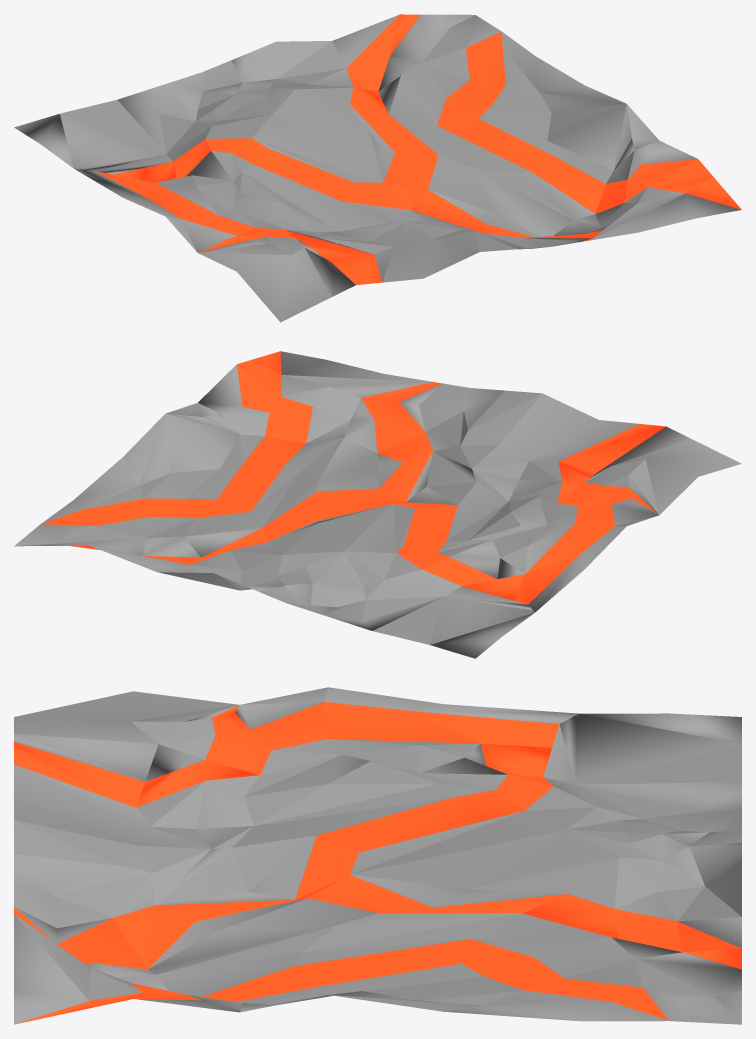
File: Spawn1.fbx
3 views of the same model, one above another, from view 1: azimuth 30°, elevation 25°; view 2: azimuth 150°, elevation 25°; view 3: azimuth 270°, elevation 25° (orthographic). The views are drawn at different scales.
Parts seen in each view (by area): view 1: Spawn1; view 2: Spawn1; view 3: Spawn1.
Boxes of the visible parts, box(x1,y1,x2,y2) form: Spawn1: box(14, 14, 741, 322); Spawn1: box(14, 351, 741, 658); Spawn1: box(14, 687, 741, 1024).
Bounding box in the file's own units: 500 × 55.61 × 500.
